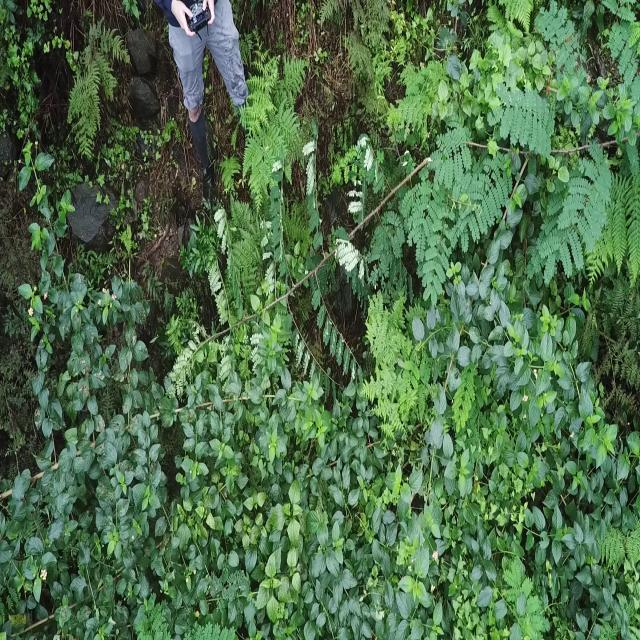Mysore-Thorn-Weed: (495, 0, 640, 268), (169, 203, 363, 382), (402, 123, 516, 276), (385, 58, 448, 122), (333, 132, 387, 196), (366, 196, 401, 282)
